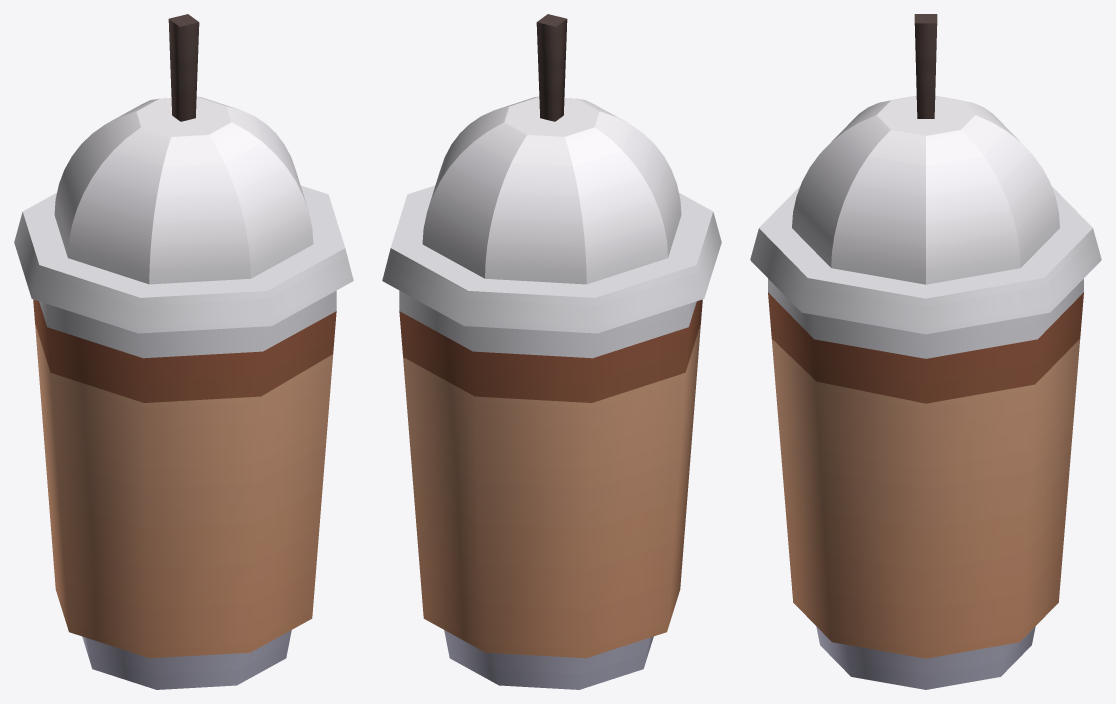
The model's file is frappe.7e40ab9c3a.glb.
The picture shows the model from 3 angles, left to right: view 1: azimuth 30°, elevation 25°; view 2: azimuth 150°, elevation 25°; view 3: azimuth 270°, elevation 25°; orthographic projection.
Parts seen in each view (by area): view 1: frappe; view 2: frappe; view 3: frappe.
Part boxes in pixels (x1,y1,x2,y2): frappe: (14,14,353,689); frappe: (382,14,721,689); frappe: (750,14,1101,689).
Bounding box in the file's own units: 0.2541 × 0.4993 × 0.2541.
Materials: 1 (1 with a texture image).
